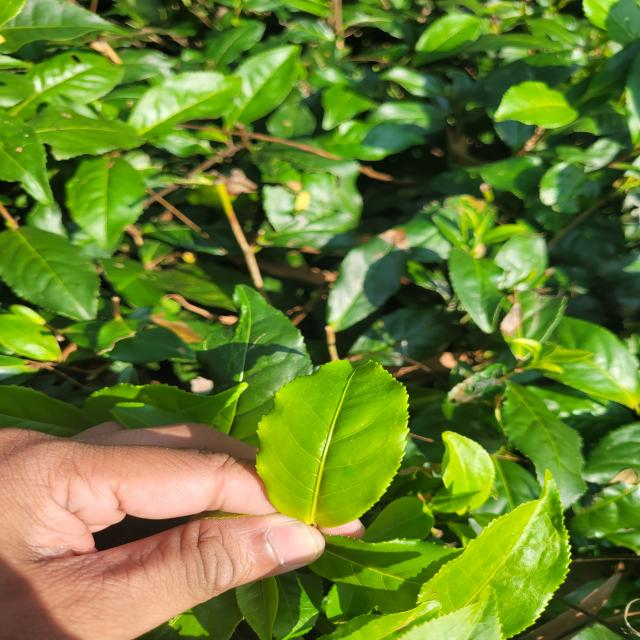Catagory A(1-2 days): (252, 352, 413, 532)
